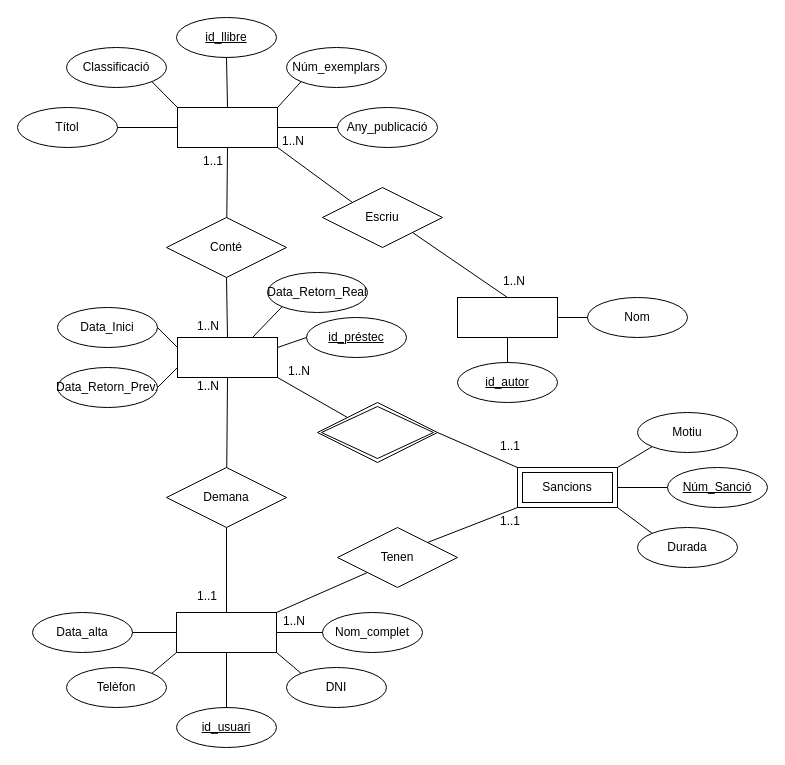
This 785x765 diagram has some shape labels left out. The shapes that lost their labels are listed below. From the top down, each one's box as (x1, y1, x2, y2) in pixels, then its label:
(176, 106, 278, 148): Llibres
(456, 296, 558, 338): Autor
(176, 336, 278, 378): Préstec
(316, 402, 438, 462): Generen
(176, 612, 276, 652): Usuaris
